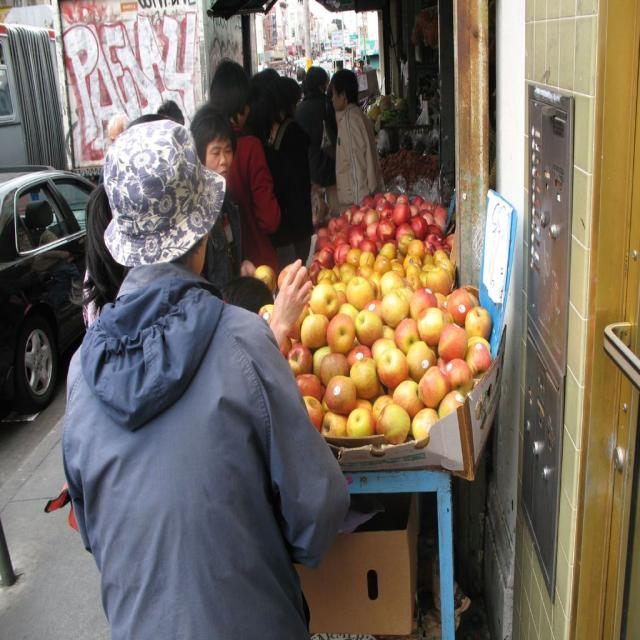Healty Apple: (258, 190, 494, 447), (325, 372, 357, 412)
